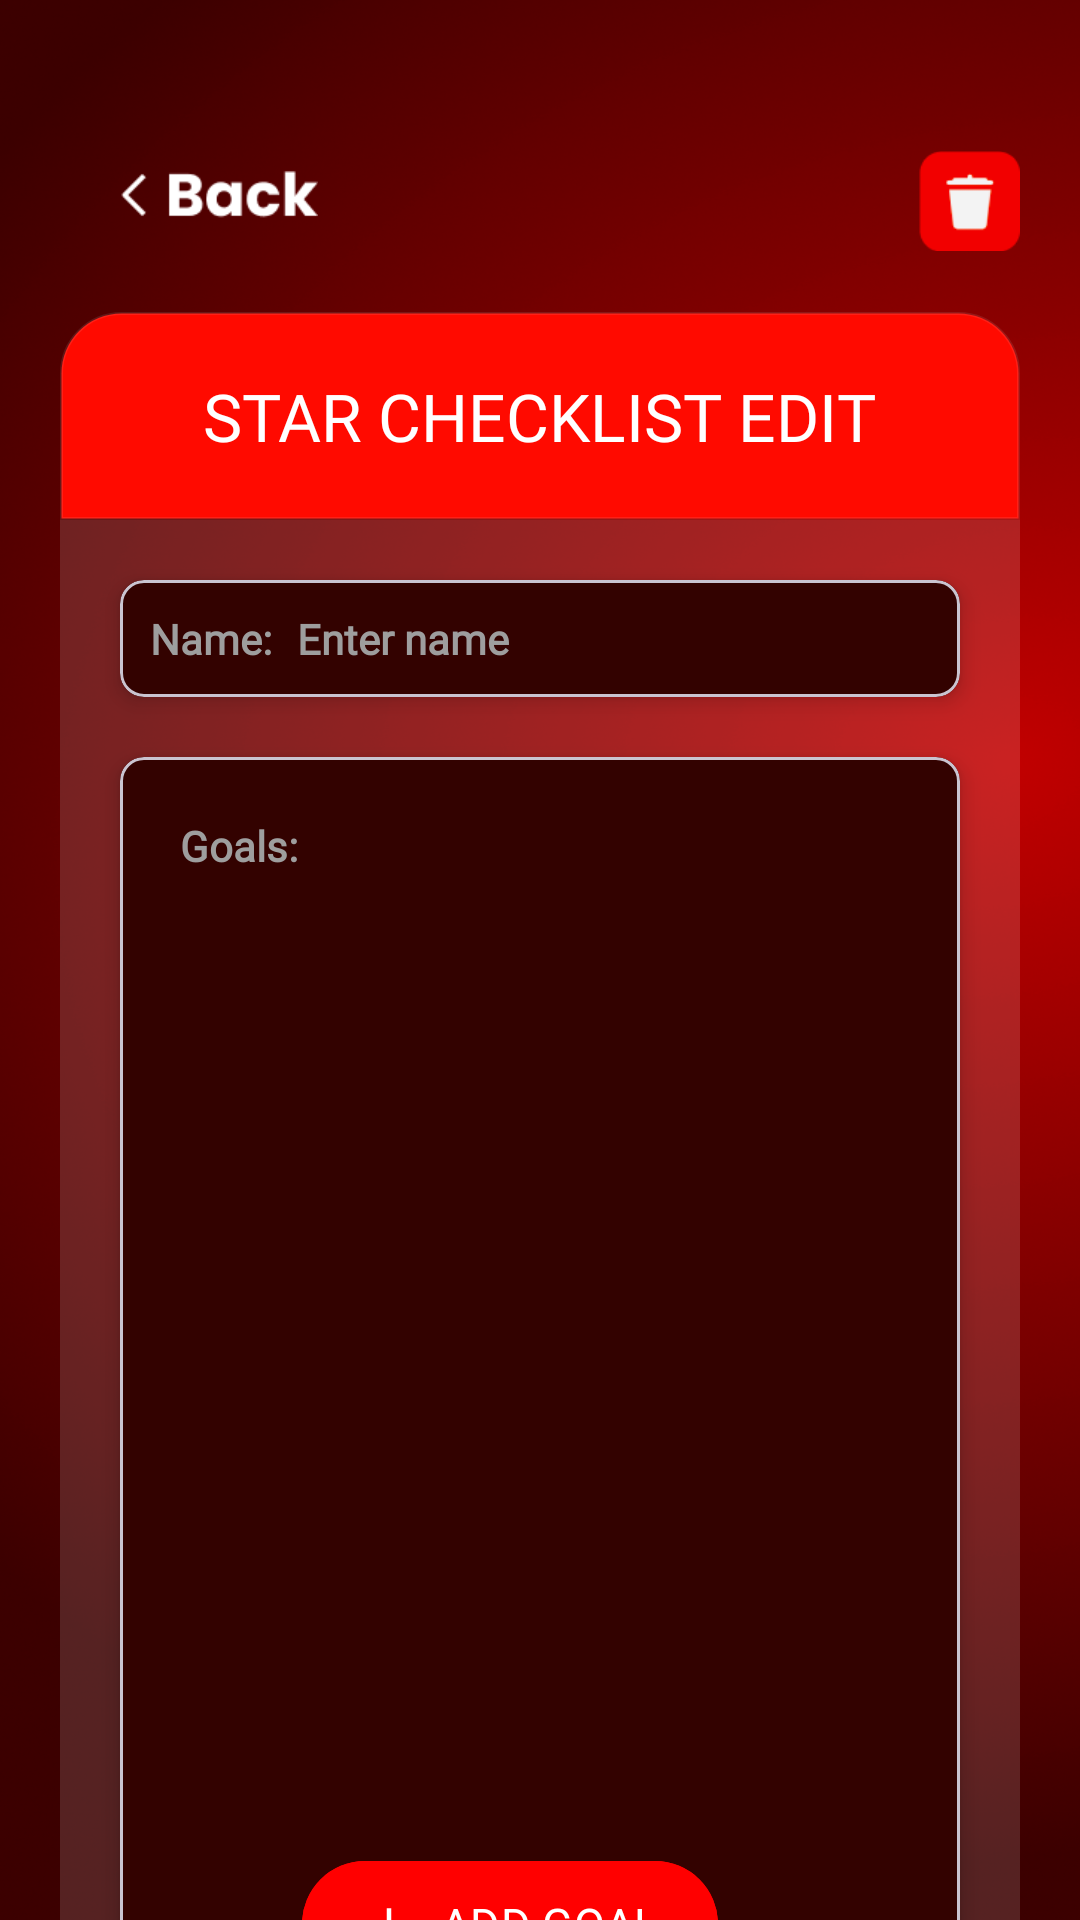

Screen size 1080px x 1920px. Icon name, then its box in pixels as (x1, y1, x2, y2):
delete: (919, 151, 1020, 251)
